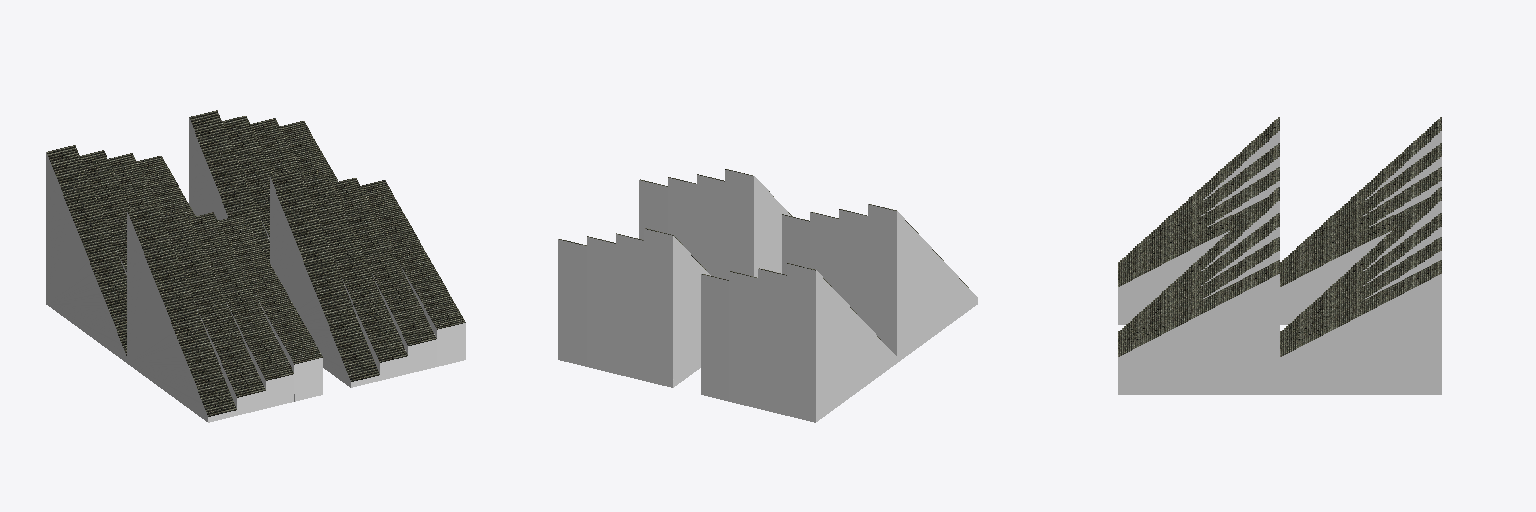
3 renders of one model, left to right at view 1: azimuth 30°, elevation 25°; view 2: azimuth 150°, elevation 25°; view 3: azimuth 270°, elevation 25°, orthographic.
Parts seen in each view (by area): view 1: mesh1, mesh0; view 2: mesh0; view 3: mesh0, mesh1.
Part boxes in pixels (x1,y1,x2,y2): mesh1: (47,110,465,416); mesh0: (46,118,465,422); mesh0: (558,170,977,422); mesh0: (1118,131,1441,394); mesh1: (1118,117,1441,356).
Size of the model in its own units: 49.51 by 27.96 by 53.96.
2 materials, 1 textured.